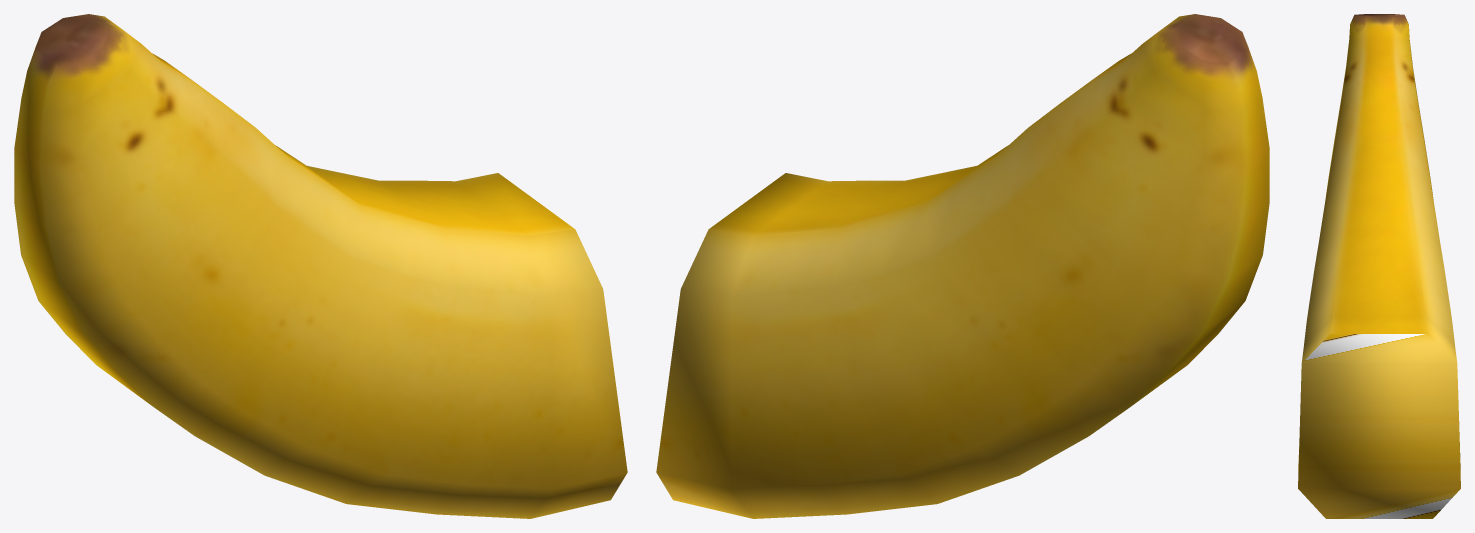
File: h_banana_1.fbx
3 renders of one model, left to right at view 1: azimuth 30°, elevation 25°; view 2: azimuth 150°, elevation 25°; view 3: azimuth 270°, elevation 25°, orthographic. The views are drawn at different scales.
Parts seen in each view (by area): view 1: Cube; view 2: Cube; view 3: Cube.
Part boxes in pixels (x1,y1,x2,y2): Cube: [14, 14, 627, 518]; Cube: [656, 14, 1269, 518]; Cube: [1298, 14, 1460, 518].
Bounding box in the file's own units: 12.51 × 12.41 × 5.14.
